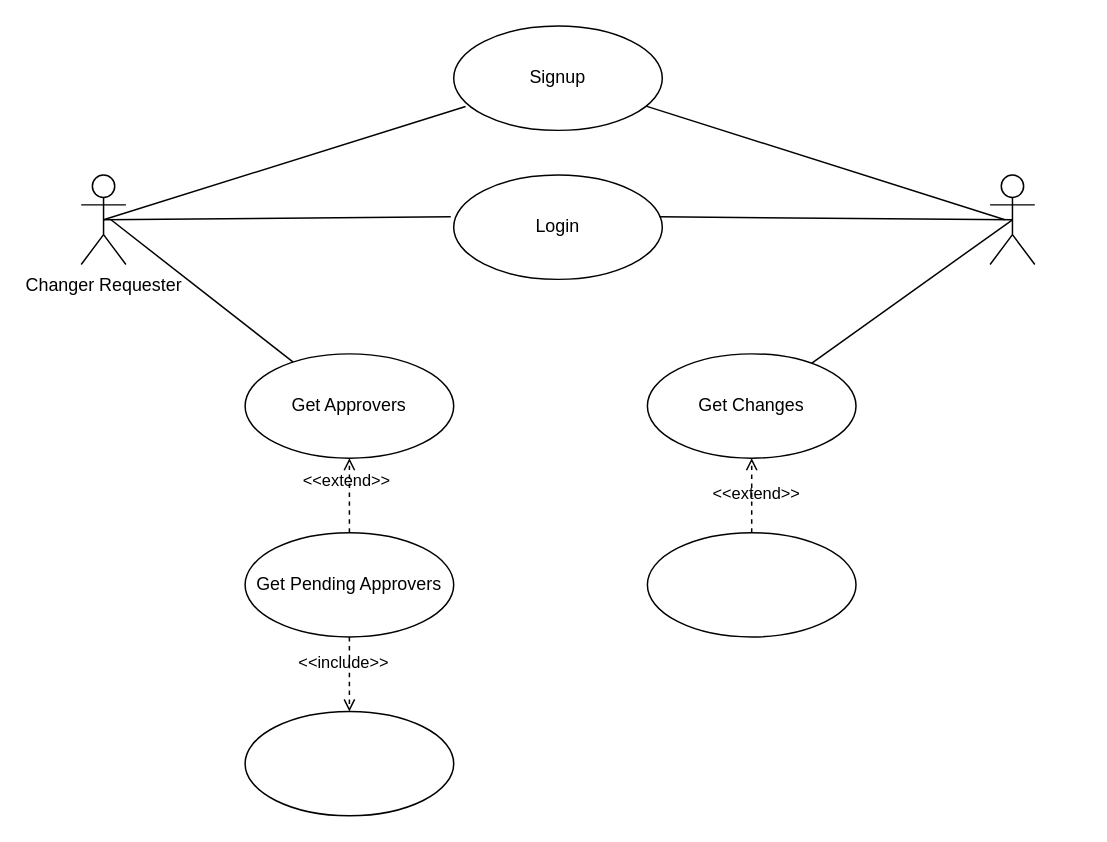
This 1107x842 diagram has some shape labels left out. Each missing label, with the box of its shape:
Change Approver: (989, 174, 1035, 264)
Email Approver: (244, 710, 454, 816)
Get Pending Changes: (646, 531, 856, 637)
